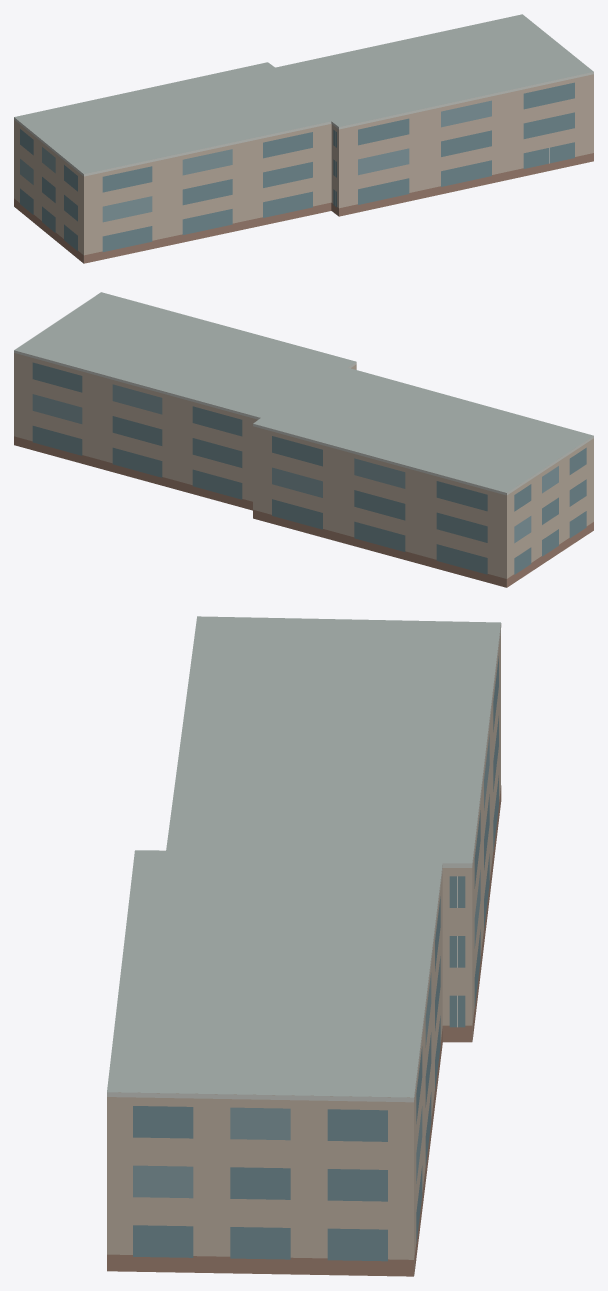
Rendered from survey-upis-32995184.glb.
The picture shows the model from 3 angles, top to bottom: view 1: azimuth 30°, elevation 25°; view 2: azimuth 150°, elevation 25°; view 3: azimuth 270°, elevation 25°; orthographic projection. The views are drawn at different scales.
Visible parts, largest first — view 1: survey-upis-32995184.tmp; view 2: survey-upis-32995184.tmp; view 3: survey-upis-32995184.tmp.
Part boxes in pixels (x1=…): survey-upis-32995184.tmp: x1=14, y1=14, x2=593, y2=263; survey-upis-32995184.tmp: x1=14, y1=292, x2=593, y2=587; survey-upis-32995184.tmp: x1=107, y1=616, x2=501, y2=1276.
Bounding box in the file's own units: 52.75 × 9.15 × 18.27.
